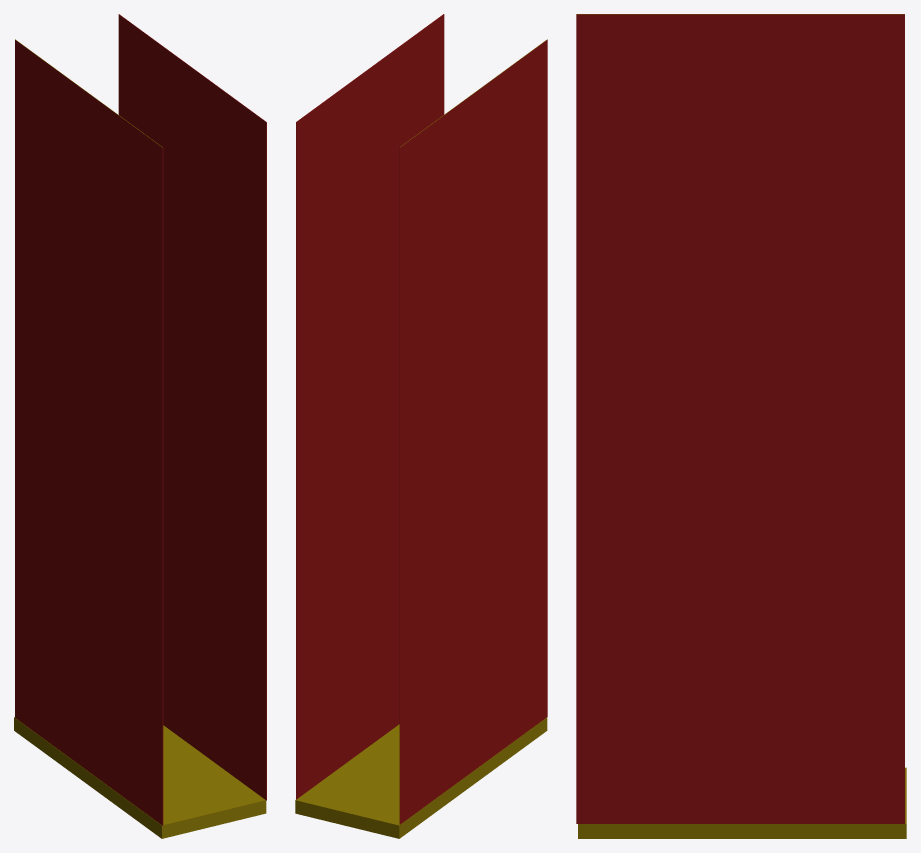
File: -standard_gauge_rule.dae
3 views of the same model, side by side, from view 1: azimuth 30°, elevation 25°; view 2: azimuth 150°, elevation 25°; view 3: azimuth 270°, elevation 25° (orthographic). The views are drawn at different scales.
Parts seen in each view (by area): view 1: Plane_002_003; view 2: Plane_002_003; view 3: Plane_002_003.
Boxes of the visible parts, bbox=[...] form: Plane_002_003: bbox=[14, 14, 266, 838]; Plane_002_003: bbox=[295, 14, 547, 838]; Plane_002_003: bbox=[576, 14, 906, 838].
Size of the model in its own units: 0.8144 by 2.01 by 5.16.
